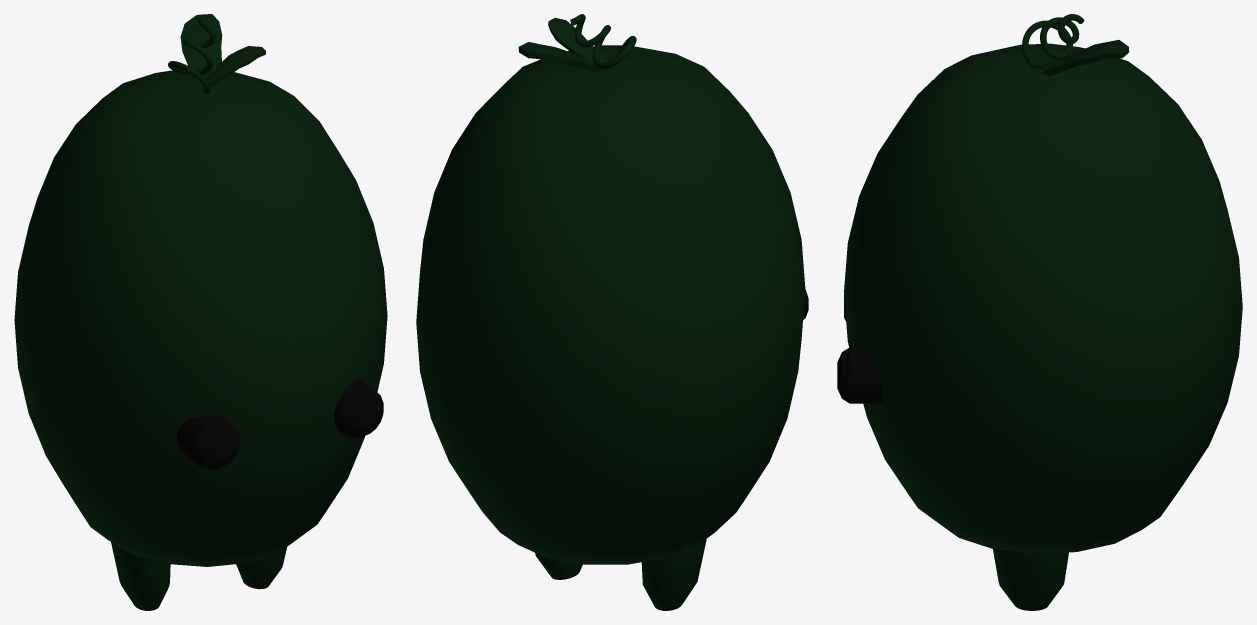
The model's file is Watermelon_01.FBX.
3 views of the same model, side by side, from view 1: azimuth 30°, elevation 25°; view 2: azimuth 150°, elevation 25°; view 3: azimuth 270°, elevation 25° (orthographic). The views are drawn at different scales.
Parts seen in each view (by area): view 1: Watermellon_01; view 2: Watermellon_01; view 3: Watermellon_01.
Boxes of the visible parts, x1,y1,x2,y2 form: Watermellon_01: (14,14,387,610); Watermellon_01: (416,14,808,610); Watermellon_01: (837,14,1242,610).
Size of the model in its own units: 42.42 by 70.74 by 45.29.
